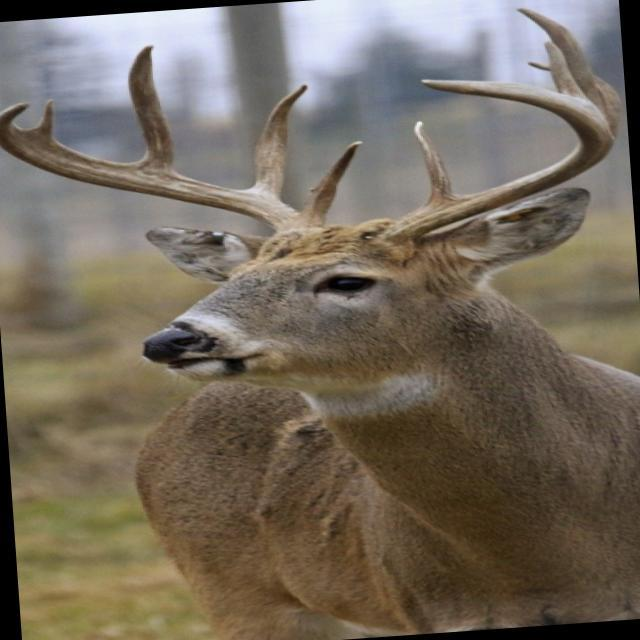L-F: (377, 77, 616, 246)
L-G1: (410, 118, 460, 205)
L-G4: (543, 38, 595, 104)
R-F: (0, 99, 319, 235)
R-G1: (299, 139, 364, 227)
R-G2: (245, 82, 309, 201)
R-G3: (124, 43, 178, 173)
R-G4: (25, 96, 58, 140)
